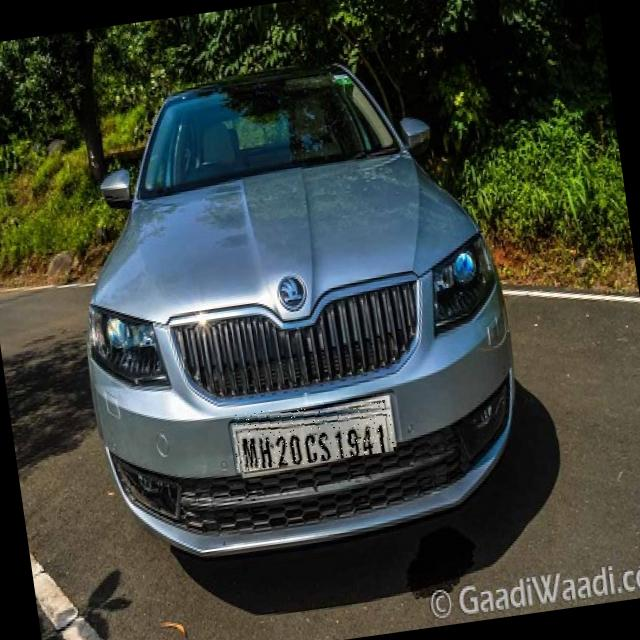Plate: (230, 394, 397, 474)
